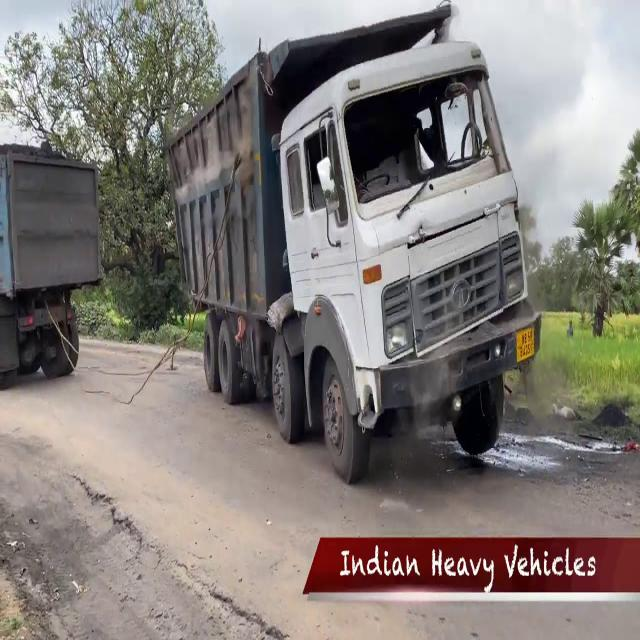truck: (170, 4, 540, 482), (0, 144, 101, 386)
